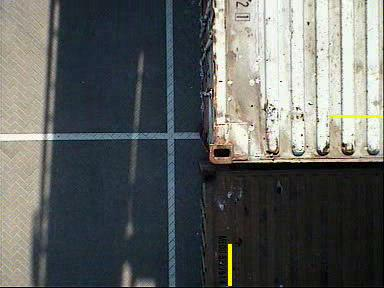groundmarker_2: (109, 168, 156, 200)
